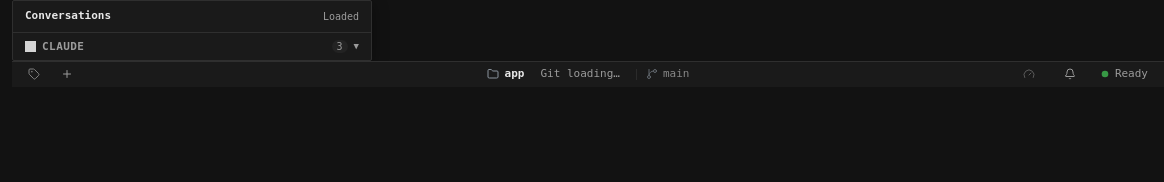
Scenario: resuming isolated-agent conversations from chat history › labels worktree conversations by branch and leaves ordinary ones unlabelled
The width and height of the screenshot is (1164, 182).
Click the button "Claude 3 ▼" at x=63, y=46, box [13,32,371,60]
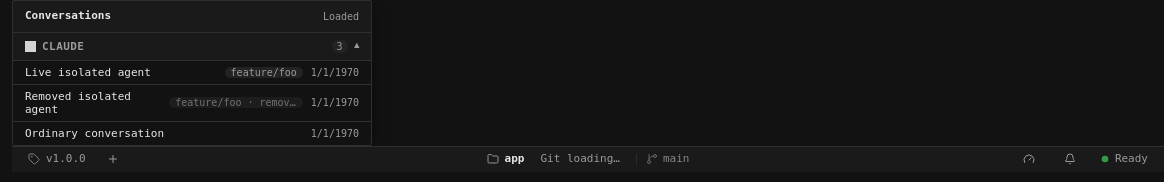
Expected: the button "Ordinary conversation 1/1/1970" does not show "feature/foo", [13,122,371,144]
Result: the button "Live isolated agent feature/foo 1/1/1970" is shown at [13,60,371,84]
Result: the button "Removed isolated agent feature/foo · removed 1/1/1970" is shown at [13,84,371,122]
